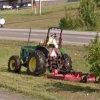Tractor: (4, 31, 78, 81)
